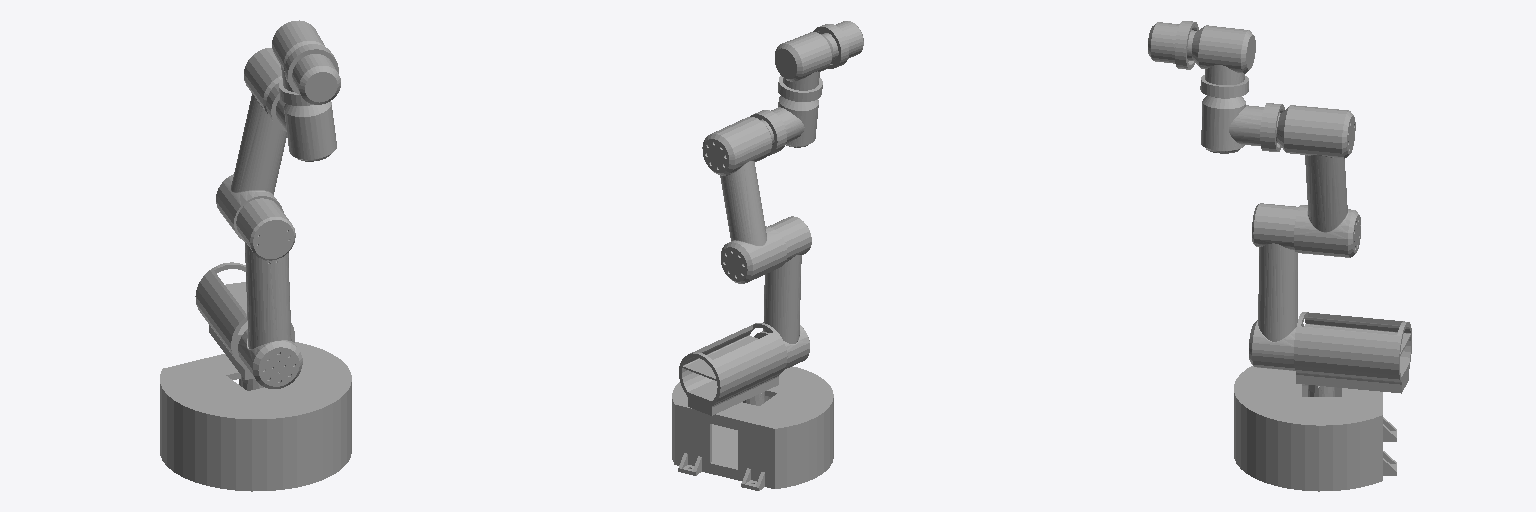
robot.urdf — handy_description:
<?xml version="1.0" encoding="utf-8"?>
<!-- This URDF was automatically created by SolidWorks to URDF Exporter! Originally created by Stephen Brawner (brawner@gmail.com) 
     Commit Version: 1.6.0-4-g7f85cfe  Build Version: 1.6.7995.38578
     For more information, please see http://wiki.ros.org/sw_urdf_exporter -->
<robot
  name="handy_description">
  <link
    name="base_link">
    <inertial>
      <origin
        xyz="-2.17400550704263E-05 0.0804155851410019 0.0167771821086932"
        rpy="0 0 0" />
      <mass
        value="5.20579669773012" />
      <inertia
        ixx="0.0745298638298292"
        ixy="2.35902206932597E-07"
        ixz="-1.71772773874938E-05"
        iyy="0.121254442926251"
        iyz="-0.000702969799281514"
        izz="0.0908582339067126" />
    </inertial>
    <visual>
      <origin
        xyz="0 0 0"
        rpy="0 0 0" />
      <geometry>
        <mesh
          filename="package://handy_description/meshes/base_link.STL" />
      </geometry>
      <material
        name="">
        <color
          rgba="0.698039215686274 0.698039215686274 0.698039215686274 1" />
      </material>
    </visual>
    <collision>
      <origin
        xyz="0 0 0"
        rpy="0 0 0" />
      <geometry>
        <mesh
          filename="package://handy_description/meshes/base_link.STL" />
      </geometry>
    </collision>
  </link>
  <link
    name="Link1">
    <inertial>
      <origin
        xyz="-0.0505963772912258 0.0807845229259251 0.000239884360427188"
        rpy="0 0 0" />
      <mass
        value="1.84719084699337" />
      <inertia
        ixx="0.00589331492713367"
        ixy="-0.000434913621296606"
        ixz="9.41395649699435E-06"
        iyy="0.0165212871966622"
        iyz="-3.68582776875864E-05"
        izz="0.0170282435103473" />
    </inertial>
    <visual>
      <origin
        xyz="0 0 0"
        rpy="0 0 0" />
      <geometry>
        <mesh
          filename="package://handy_description/meshes/Link1.STL" />
      </geometry>
      <material
        name="">
        <color
          rgba="0.698039215686274 0.698039215686274 0.698039215686274 1" />
      </material>
    </visual>
    <collision>
      <origin
        xyz="0 0 0"
        rpy="0 0 0" />
      <geometry>
        <mesh
          filename="package://handy_description/meshes/Link1.STL" />
      </geometry>
    </collision>
  </link>
  <joint
    name="joint1"
    type="continuous">
    <origin
      xyz="0 0 0.16499999999999"
      rpy="1.5707963267949 0 -1.78820384774425" />
    <parent
      link="base_link" />
    <child
      link="Link1" />
    <axis
      xyz="0 1 0" />
  </joint>
  <link
    name="Link2">
    <inertial>
      <origin
        xyz="0.0872810786514221 0.171831443377257 0.000442592450654812"
        rpy="0 0 0" />
      <mass
        value="1.79378971577605" />
      <inertia
        ixx="0.0286366097356286"
        ixy="0.00434268252501847"
        ixz="5.82082670946274E-06"
        iyy="0.00630835073077821"
        iyz="-4.22812908192919E-05"
        izz="0.031806258387788" />
    </inertial>
    <visual>
      <origin
        xyz="0 0 0"
        rpy="0 0 0" />
      <geometry>
        <mesh
          filename="package://handy_description/meshes/Link2.STL" />
      </geometry>
      <material
        name="">
        <color
          rgba="0.698039215686274 0.698039215686274 0.698039215686274 1" />
      </material>
    </visual>
    <collision>
      <origin
        xyz="0 0 0"
        rpy="0 0 0" />
      <geometry>
        <mesh
          filename="package://handy_description/meshes/Link2.STL" />
      </geometry>
    </collision>
  </link>
  <joint
    name="joint2"
    type="continuous">
    <origin
      xyz="0 0.0980000000000102 0"
      rpy="0.0331729718675605 0 0" />
    <parent
      link="Link1" />
    <child
      link="Link2" />
    <axis
      xyz="1 0 0" />
  </joint>
  <link
    name="Link3">
    <inertial>
      <origin
        xyz="-3.17005538200688E-05 -0.145907433466096 -0.0124227488510887"
        rpy="0 0 0" />
      <mass
        value="1.67831155597823" />
      <inertia
        ixx="0.0287779073274115"
        ixy="1.21179691208291E-07"
        ixz="1.28013844381651E-08"
        iyy="0.00494996442330398"
        iyz="0.00209715919164777"
        izz="0.0272241658004667" />
    </inertial>
    <visual>
      <origin
        xyz="0 0 0"
        rpy="0 0 0" />
      <geometry>
        <mesh
          filename="package://handy_description/meshes/Link3.STL" />
      </geometry>
      <material
        name="">
        <color
          rgba="0.698039215686274 0.698039215686274 0.698039215686274 1" />
      </material>
    </visual>
    <collision>
      <origin
        xyz="0 0 0"
        rpy="0 0 0" />
      <geometry>
        <mesh
          filename="package://handy_description/meshes/Link3.STL" />
      </geometry>
    </collision>
  </link>
  <joint
    name="joint3"
    type="continuous">
    <origin
      xyz="0 0.29155 0.000575582702538871"
      rpy="1.5707963267949 -1.32183280290932 1.5707963267949" />
    <parent
      link="Link2" />
    <child
      link="Link3" />
    <axis
      xyz="0 0 1" />
  </joint>
  <link
    name="Link4">
    <inertial>
      <origin
        xyz="9.14813616526011E-09 0.0807632232499863 -0.00464807251136501"
        rpy="0 0 0" />
      <mass
        value="0.788294501444391" />
      <inertia
        ixx="0.00337863003704717"
        ixy="-1.49147045606338E-09"
        ixz="-1.97176665782316E-09"
        iyy="0.00181746118095437"
        iyz="5.59839347246388E-05"
        izz="0.00294855360229455" />
    </inertial>
    <visual>
      <origin
        xyz="0 0 0"
        rpy="0 0 0" />
      <geometry>
        <mesh
          filename="package://handy_description/meshes/Link4.STL" />
      </geometry>
      <material
        name="">
        <color
          rgba="0.698039215686274 0.698039215686274 0.698039215686274 1" />
      </material>
    </visual>
    <collision>
      <origin
        xyz="0 0 0"
        rpy="0 0 0" />
      <geometry>
        <mesh
          filename="package://handy_description/meshes/Link4.STL" />
      </geometry>
    </collision>
  </link>
  <joint
    name="joint4"
    type="continuous">
    <origin
      xyz="0 -0.283 0.0937268862500288"
      rpy="1.5707963267949 0 -2.80898508991109" />
    <parent
      link="Link3" />
    <child
      link="Link4" />
    <axis
      xyz="0 1 0" />
  </joint>
  <link
    name="Link5">
    <inertial>
      <origin
        xyz="1.10484036669467E-07 0.0661798360157611 -0.00478961604459155"
        rpy="0 0 0" />
      <mass
        value="0.666997164681847" />
      <inertia
        ixx="0.00230581229513047"
        ixy="-3.03911661041242E-09"
        ixz="-1.3687319132369E-09"
        iyy="0.00163752263816699"
        iyz="2.90871514518967E-05"
        izz="0.00187035546141408" />
    </inertial>
    <visual>
      <origin
        xyz="0 0 0"
        rpy="0 0 0" />
      <geometry>
        <mesh
          filename="package://handy_description/meshes/Link5.STL" />
      </geometry>
      <material
        name="">
        <color
          rgba="0.698039215686274 0.698039215686274 0.698039215686274 1" />
      </material>
    </visual>
    <collision>
      <origin
        xyz="0 0 0"
        rpy="0 0 0" />
      <geometry>
        <mesh
          filename="package://handy_description/meshes/Link5.STL" />
      </geometry>
    </collision>
  </link>
  <joint
    name="joint5"
    type="continuous">
    <origin
      xyz="0 0.123067608467674 -0.0836321372682999"
      rpy="-1.5707963267949 0 -3.07906203524659" />
    <parent
      link="Link4" />
    <child
      link="Link5" />
    <axis
      xyz="0 1 0" />
  </joint>
  <link
    name="Link6">
    <inertial>
      <origin
        xyz="1.83414272658666E-08 0.035546421300757 -0.00209003383815964"
        rpy="0 0 0" />
      <mass
        value="0.395089923264463" />
      <inertia
        ixx="0.00060937486897689"
        ixy="-3.32216647271869E-10"
        ixz="-5.97155257723745E-10"
        iyy="0.000602680820617663"
        iyz="-9.08085988624423E-06"
        izz="0.000611095056035486" />
    </inertial>
    <visual>
      <origin
        xyz="0 0 0"
        rpy="0 0 0" />
      <geometry>
        <mesh
          filename="package://handy_description/meshes/Link6.STL" />
      </geometry>
      <material
        name="">
        <color
          rgba="0.698039215686274 0.698039215686274 0.698039215686274 1" />
      </material>
    </visual>
    <collision>
      <origin
        xyz="0 0 0"
        rpy="0 0 0" />
      <geometry>
        <mesh
          filename="package://handy_description/meshes/Link6.STL" />
      </geometry>
    </collision>
  </link>
  <joint
    name="joint6"
    type="continuous">
    <origin
      xyz="0 0.0921623574494037 -0.0859488892195215"
      rpy="-1.5707963267949 0 2.60725709980123" />
    <parent
      link="Link5" />
    <child
      link="Link6" />
    <axis
      xyz="0 1 0" />
  </joint>
</robot>

--- Render facts (derived) ---
3 views of the same robot in one strip: view 1: azimuth 30°, elevation 25°; view 2: azimuth 150°, elevation 25°; view 3: azimuth 270°, elevation 25° (orthographic).
Robot: handy_description — 7 links, 6 joints (6 continuous); root link base_link; default pose: all joints at 0.
Links seen in each view (by area): view 1: base_link, Link2, Link3, Link1, Link4, Link6, Link5; view 2: base_link, Link3, Link1, Link2, Link5, Link4, Link6; view 3: base_link, Link3, Link1, Link2, Link5, Link4, Link6.
Boxes of the visible links, x1,y1,x2,y2 form: base_link: [160, 342, 351, 491]; Link2: [236, 198, 302, 388]; Link3: [216, 48, 286, 241]; Link1: [195, 262, 294, 384]; Link4: [266, 83, 336, 161]; Link6: [284, 44, 340, 104]; Link5: [272, 20, 324, 105]; base_link: [672, 366, 833, 490]; Link3: [702, 117, 786, 283]; Link1: [679, 323, 787, 415]; Link2: [754, 216, 811, 369]; Link5: [775, 32, 838, 101]; Link4: [750, 96, 818, 155]; Link6: [813, 21, 863, 68]; base_link: [1234, 366, 1396, 491]; Link3: [1276, 105, 1360, 257]; Link1: [1294, 312, 1411, 393]; Link2: [1249, 203, 1303, 370]; Link5: [1187, 25, 1255, 97]; Link4: [1201, 95, 1284, 153]; Link6: [1148, 21, 1198, 69].
Size in the robot's own frame: 0.3998 by 0.6005 by 1.06 metres.
Meshes: 7 distinct files referenced, 7 mesh visuals loaded (7 binary STL).
